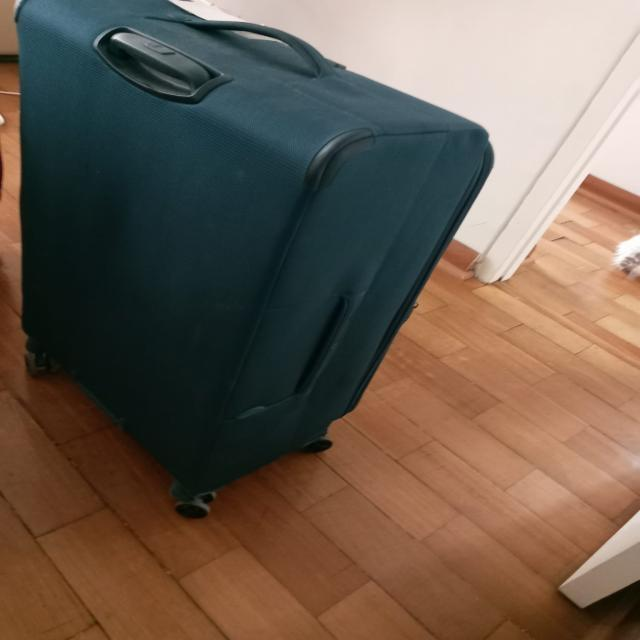Suitcase: (11, 0, 494, 524)
